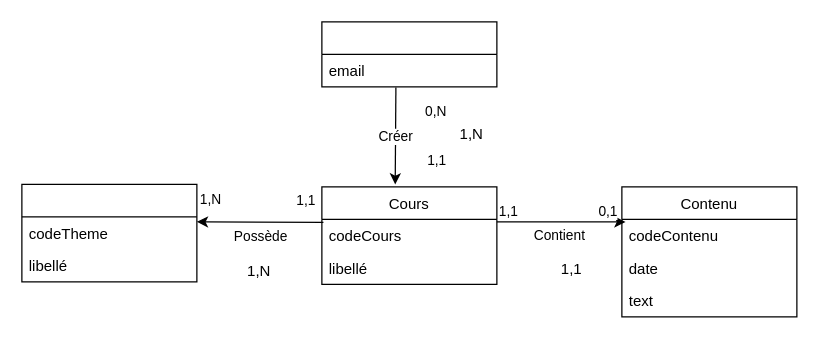
Some shapes in this 819 by 343 pixel diagram are drawn without their labels. Here are the shapes that lost their labels. From the top down, the box of each, then its label:
(321, 21, 497, 87): Utilisateur
(21, 183, 197, 282): Théme
